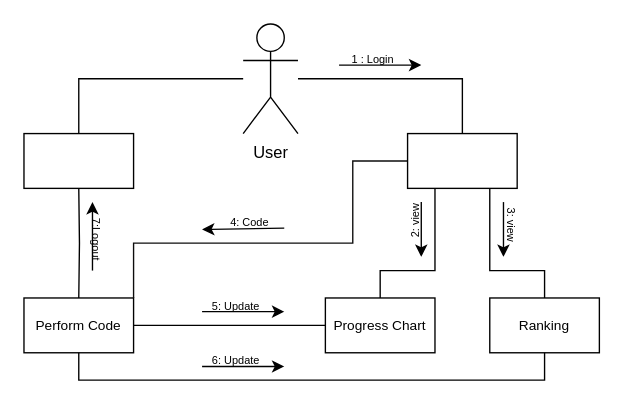
The diagram is 623 pixels wide and 406 high, and some of its shapes have lost their labels. The centre of each missing label's shape, as x and y in pixels:
"Login" goes at pixel 461 160.
"Logout" goes at pixel 78 160.
